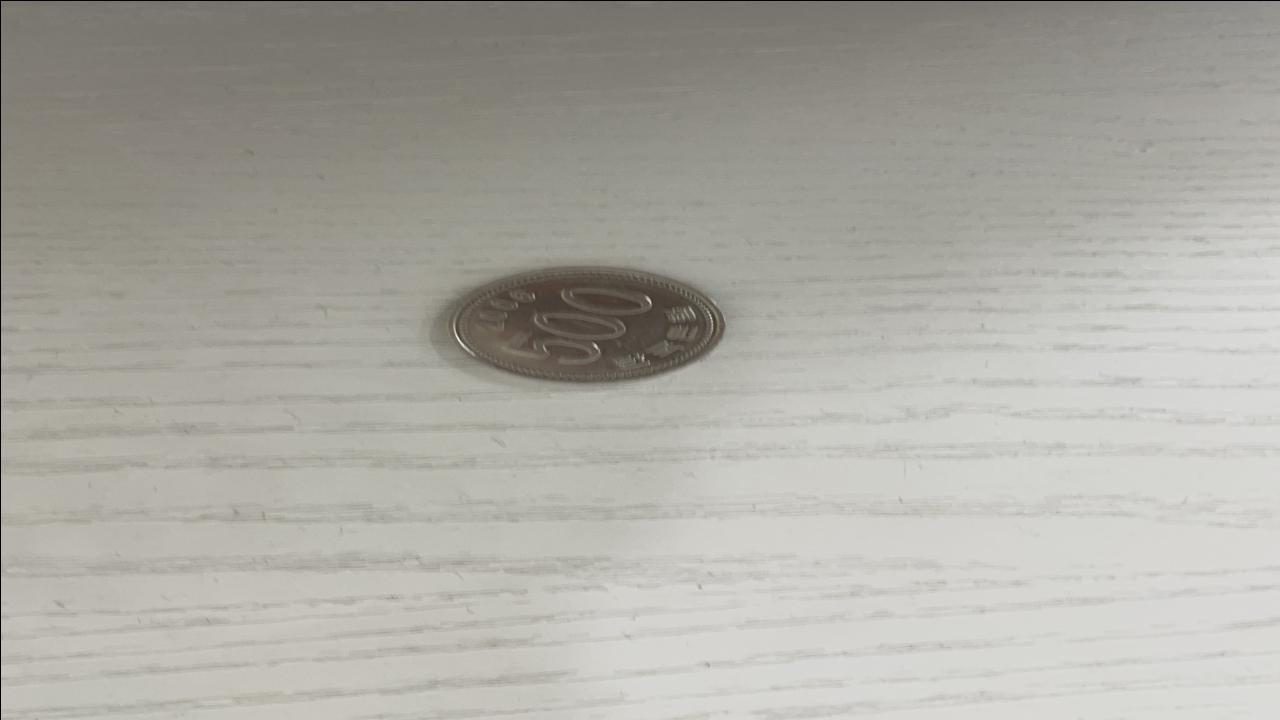coin: (443, 270, 725, 382)
